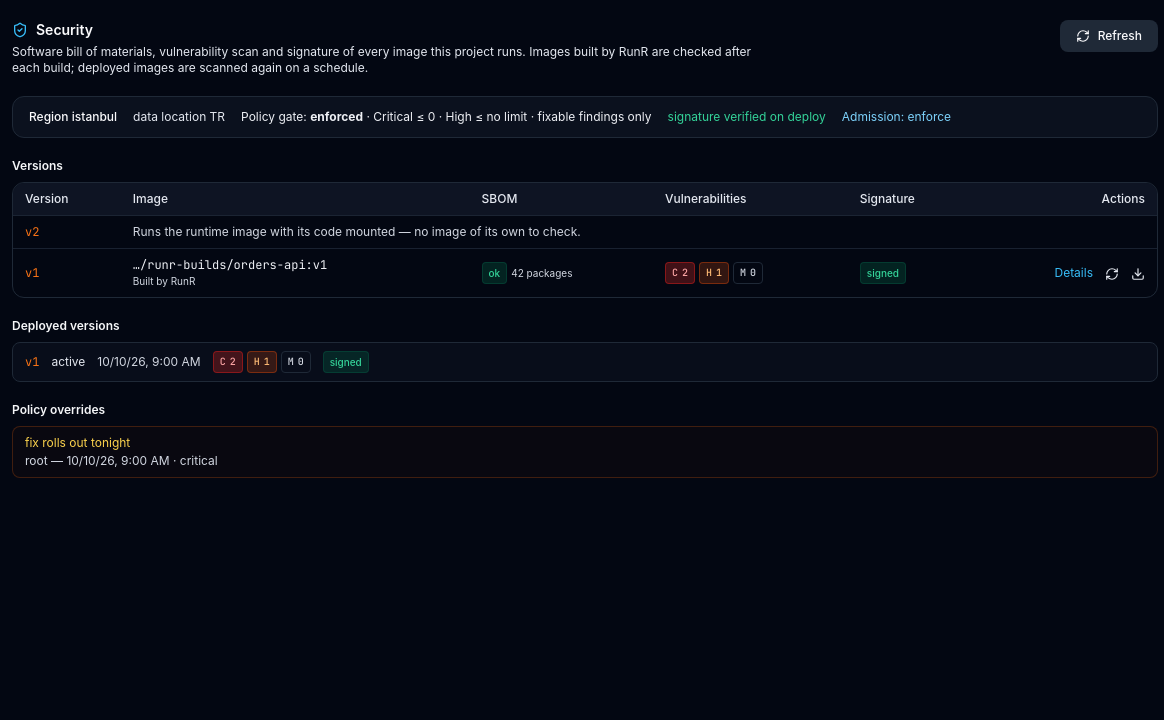
Scenario: ProjectSecurity › opens the version detail: findings, SBOM summary, signature and the deploy decision
Click the button "Details". click: (1074, 273)
box: x1=1054 y1=265 x2=1093 y2=281
(page scrolled)
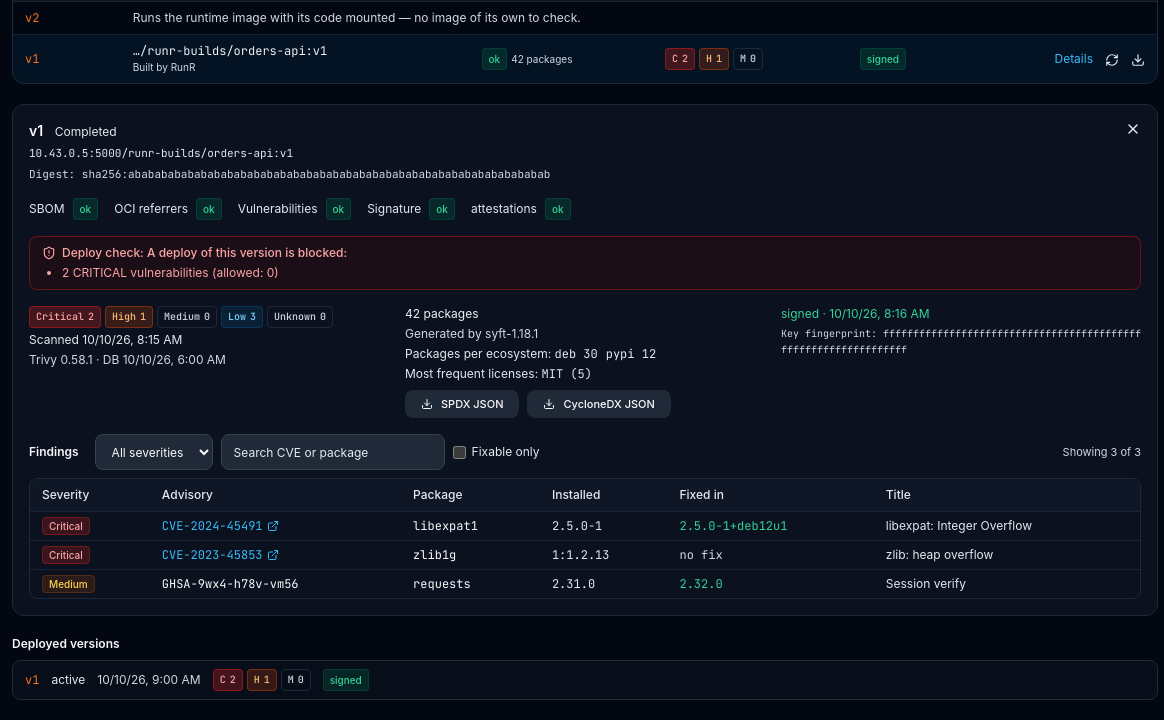
Now the text "2 CRITICAL vulnerabilities (allowed: 0)" is shown, box x1=62 y1=265 x2=279 y2=280
Now the element that starts with "42 packages" shows "deb 30", box x1=554 y1=346 x2=598 y2=362
Now the element that starts with "42 packages" shows "MIT (5)", box x1=542 y1=366 x2=592 y2=382
